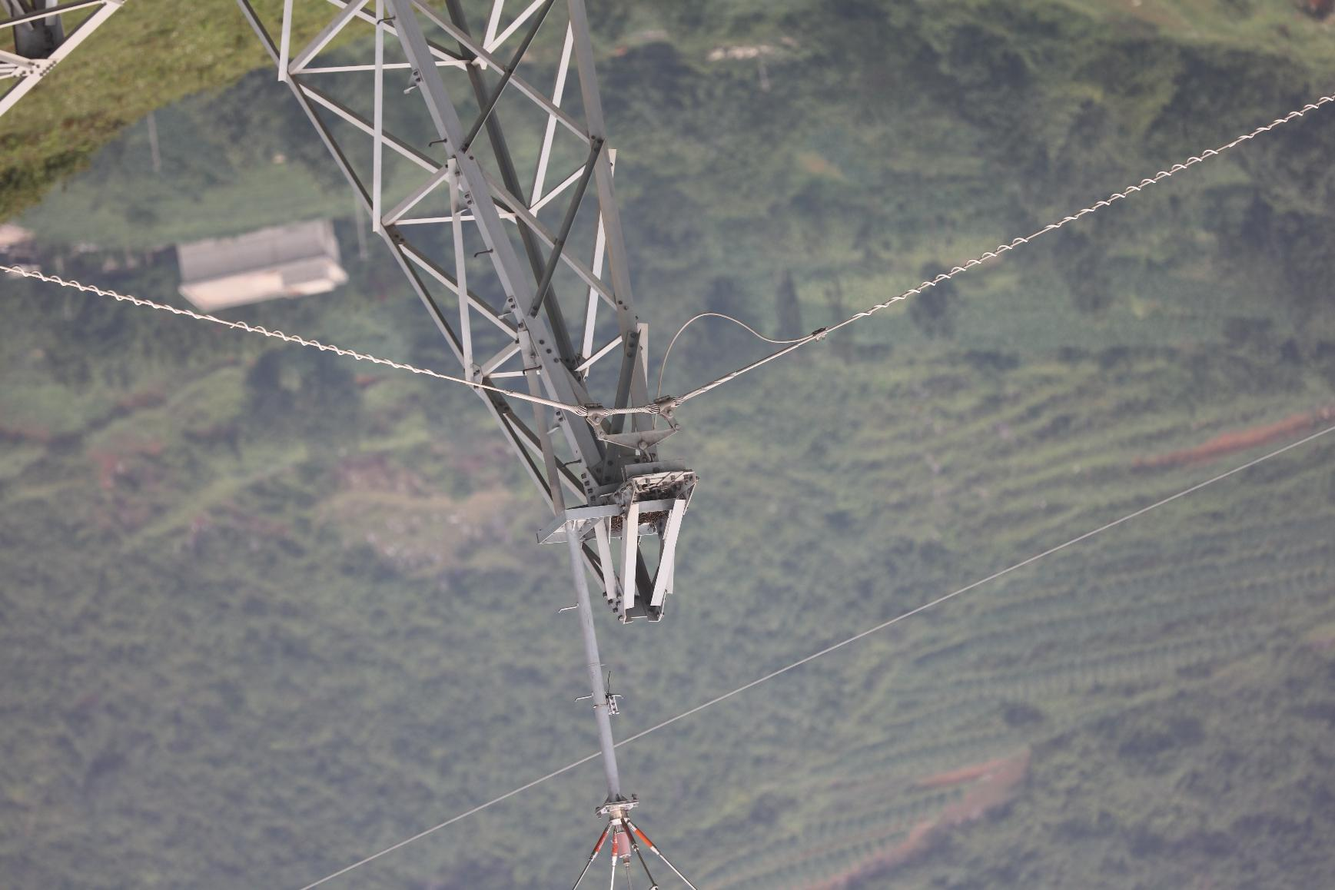nest: (609, 507, 668, 532)
